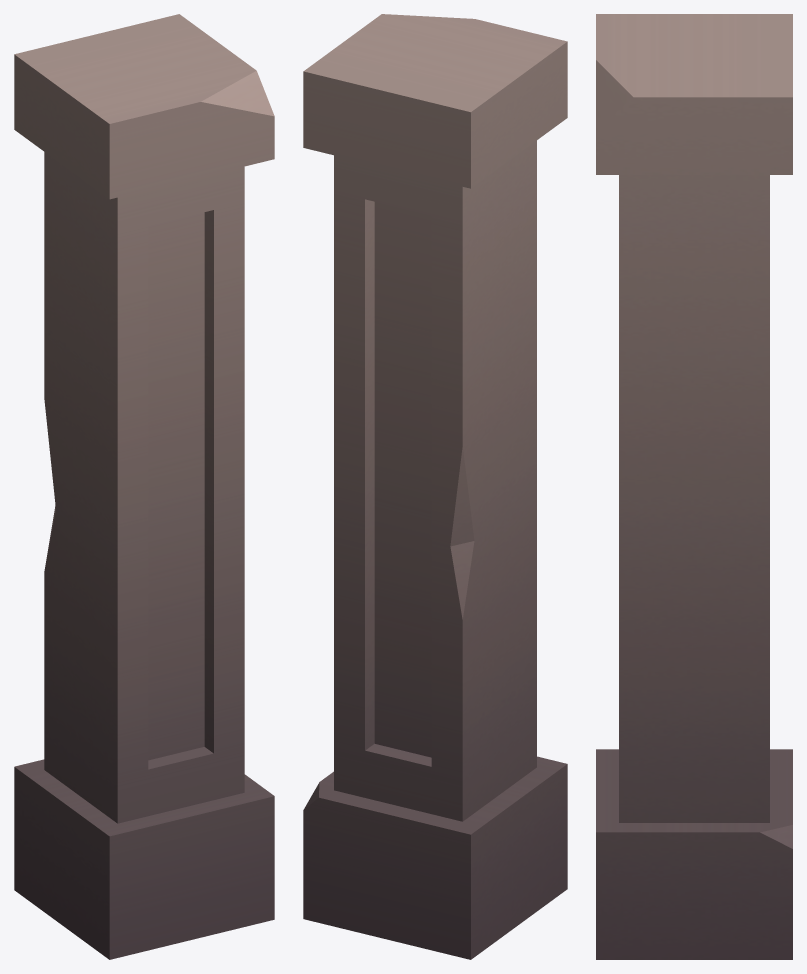
The model's file is fenceBPillar2.glb.
3 views of the same model, side by side, from view 1: azimuth 30°, elevation 25°; view 2: azimuth 150°, elevation 25°; view 3: azimuth 270°, elevation 25° (orthographic). The views are drawn at different scales.
Parts seen in each view (by area): view 1: fenceBPillar2; view 2: fenceBPillar2; view 3: fenceBPillar2.
Part boxes in pixels (x1=…): fenceBPillar2: x1=14, y1=14, x2=274, y2=959; fenceBPillar2: x1=303, y1=14, x2=567, y2=959; fenceBPillar2: x1=596, y1=14, x2=792, y2=959.
Size of the model in its own units: 0.359 by 1.74 by 0.359.
1 material, 1 textured.
